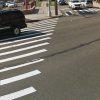Crosswalk: (1, 31, 52, 100)
